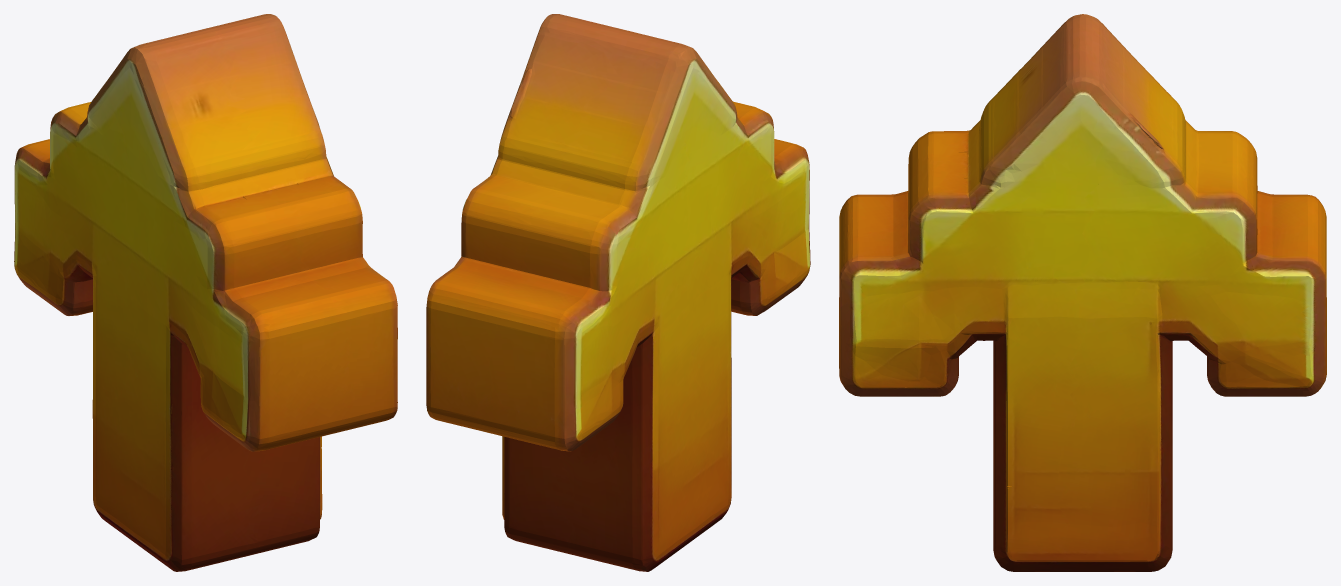
The model's file is guidance.glb.
3 views of the same model, side by side, from view 1: azimuth 30°, elevation 25°; view 2: azimuth 150°, elevation 25°; view 3: azimuth 270°, elevation 25° (orthographic).
Parts seen in each view (by area): view 1: tripo_node_81c196ee-9618-44d0-9cb2-93110a0422cf; view 2: tripo_node_81c196ee-9618-44d0-9cb2-93110a0422cf; view 3: tripo_node_81c196ee-9618-44d0-9cb2-93110a0422cf.
Boxes of the visible parts, <box> form: tripo_node_81c196ee-9618-44d0-9cb2-93110a0422cf: <box>14,14,397,571</box>; tripo_node_81c196ee-9618-44d0-9cb2-93110a0422cf: <box>426,14,810,571</box>; tripo_node_81c196ee-9618-44d0-9cb2-93110a0422cf: <box>839,14,1326,571</box>.
Size of the model in its own units: 0.3272 by 0.9999 by 0.8953.
Materials: 1 (1 with a texture image).
